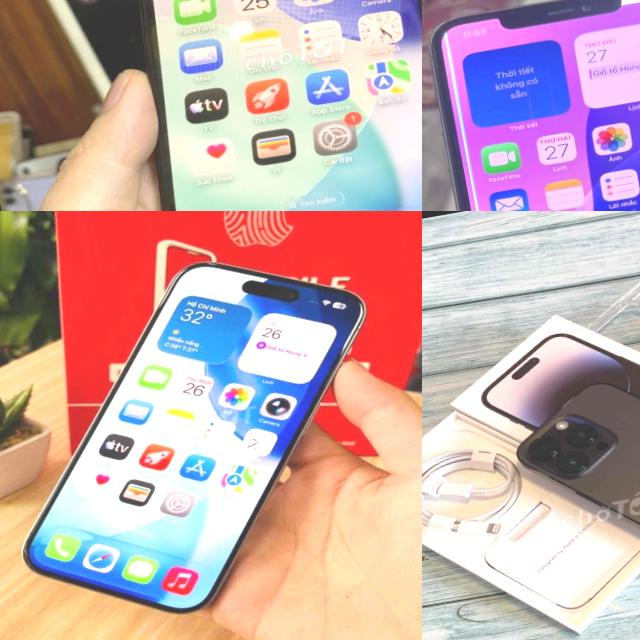gen_12_13: (79, 0, 422, 211)
gen_14: (503, 344, 640, 613)
gen_15: (0, 223, 409, 638)
gen_x_xs: (422, 0, 640, 211)
